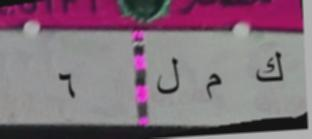6: (55, 67, 78, 103)
kaaf: (250, 44, 285, 90)
laam: (152, 52, 184, 101)
meem: (200, 69, 225, 103)
